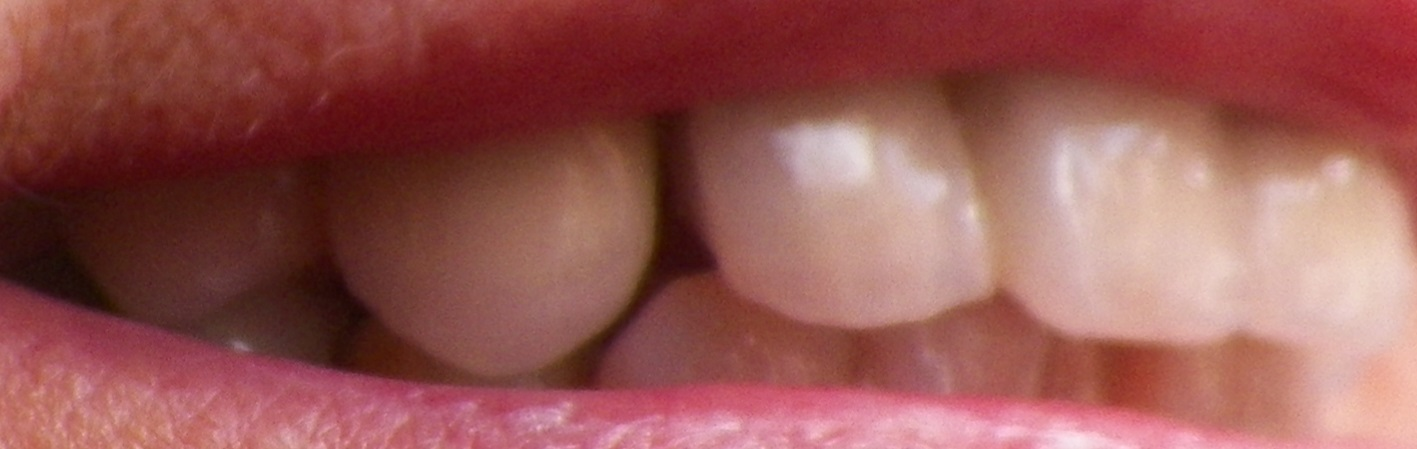boca: (66, 86, 1410, 415)
